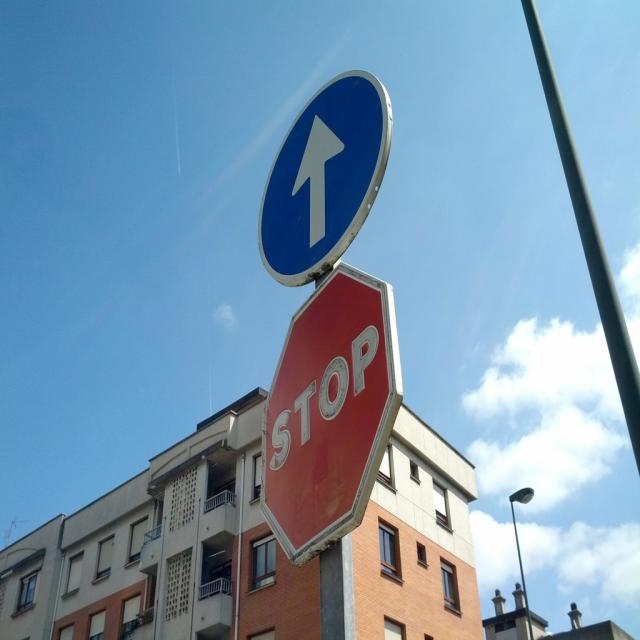Stop-sign: (260, 259, 404, 570)
